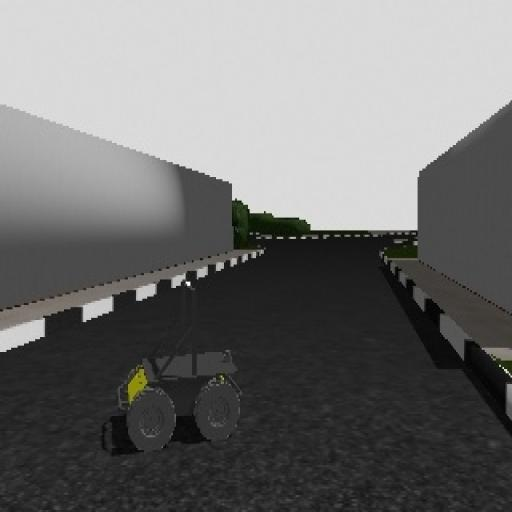huskya200: (100, 265, 255, 476)
